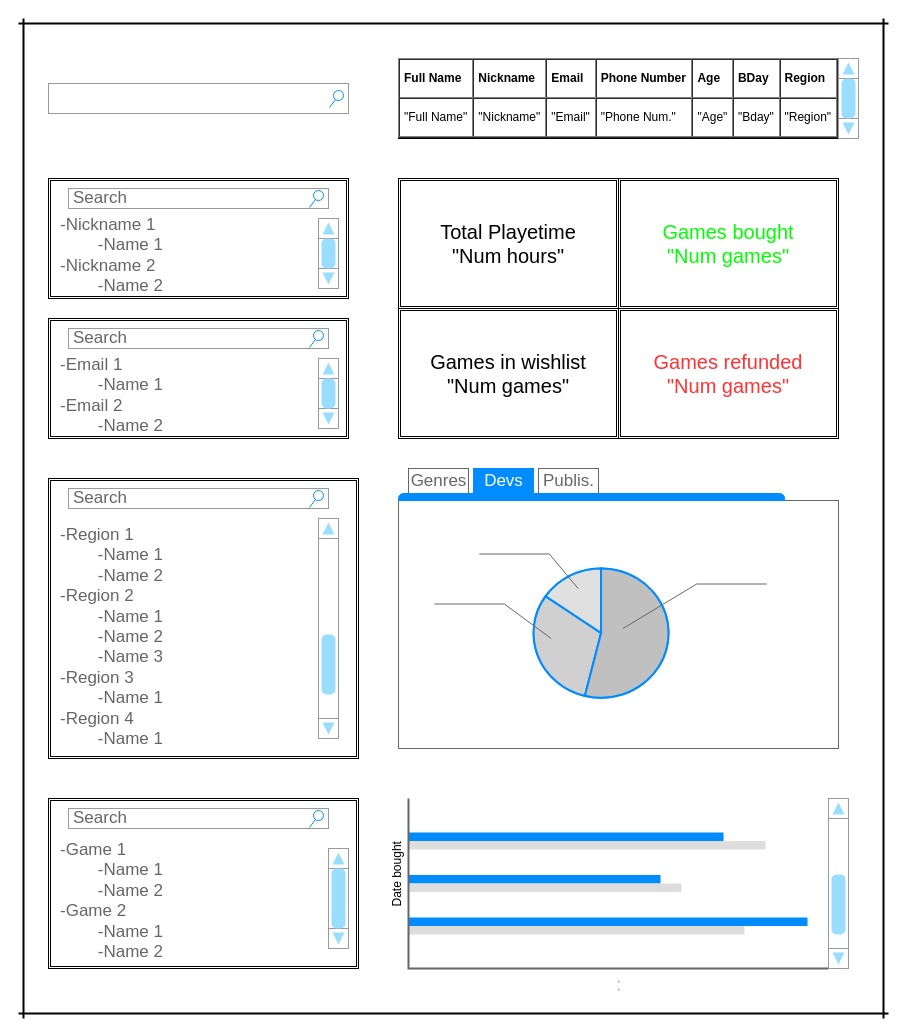
This 906x1036 diagram has some shape labels left out. The shapes that lost their labels are listed below. From the top down, each one's centre as x and y in pixels, then its label:
At point 198,98: "Search Name".
At point 528,558: "Dev3 %".
At point 492,608: "Dev2 %".
At point 694,593: "Dev1 %".
At point 618,883: "Games bought".
